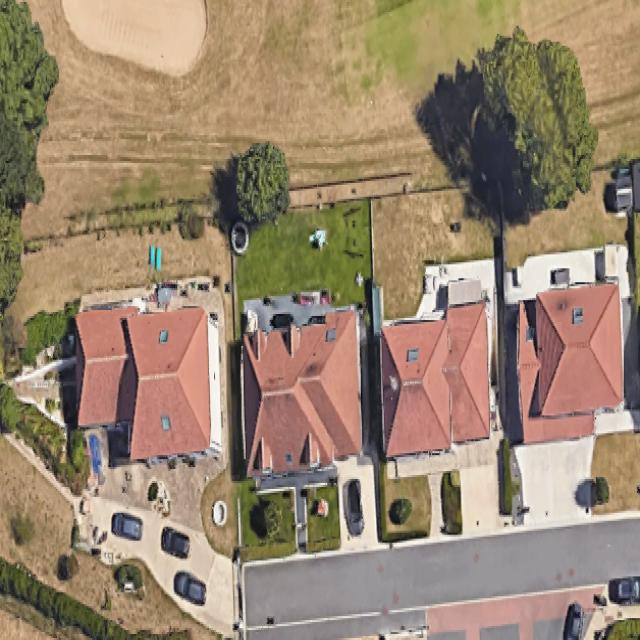maison: (75, 306, 221, 461), (233, 310, 371, 473), (375, 300, 491, 455), (513, 284, 625, 443)
